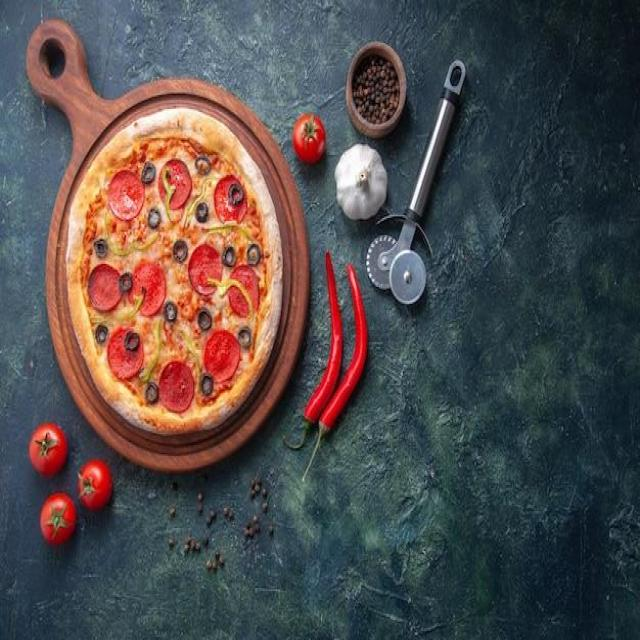olive: (172, 240, 191, 262), (124, 329, 142, 352), (147, 204, 161, 232), (197, 308, 212, 334), (194, 156, 213, 175), (228, 183, 244, 205), (199, 374, 214, 397), (245, 242, 260, 265), (141, 163, 155, 187), (144, 382, 159, 404), (238, 327, 253, 349), (194, 204, 210, 223), (224, 245, 236, 269), (120, 272, 133, 294), (164, 303, 178, 322), (95, 322, 107, 344), (93, 240, 108, 256)
pepperoni: (129, 261, 168, 316), (108, 328, 142, 383), (204, 330, 239, 381), (188, 242, 222, 294), (108, 171, 144, 220), (159, 361, 193, 412), (229, 264, 261, 318), (158, 160, 192, 210), (88, 264, 122, 313), (216, 173, 247, 225)
pizza: (64, 109, 285, 438)
